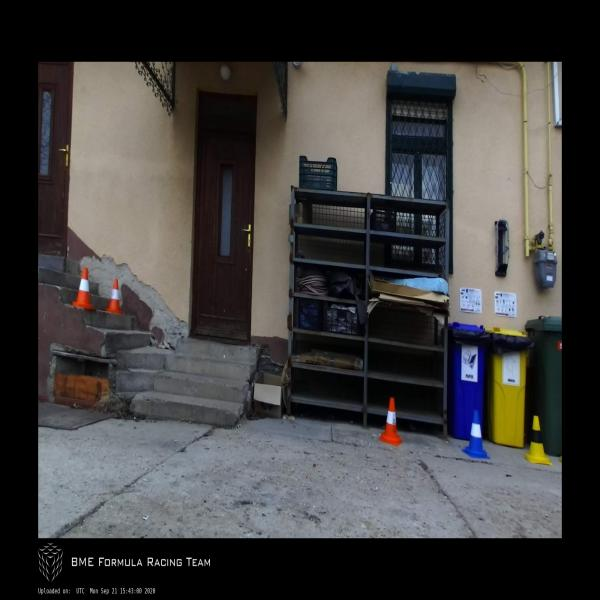blue_cone: (462, 410, 490, 458)
orange_cone: (378, 398, 402, 445), (73, 268, 93, 309), (106, 279, 121, 313)
yellow_cone: (524, 416, 552, 465)
